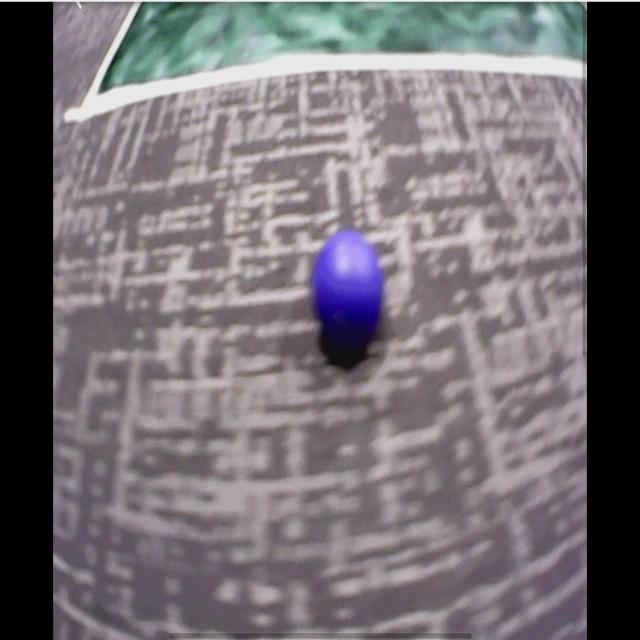ball: (313, 232, 385, 337)
